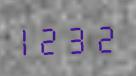one: (18, 21, 42, 56)
three: (68, 19, 92, 55)
two: (43, 20, 67, 56), (93, 19, 117, 54)
